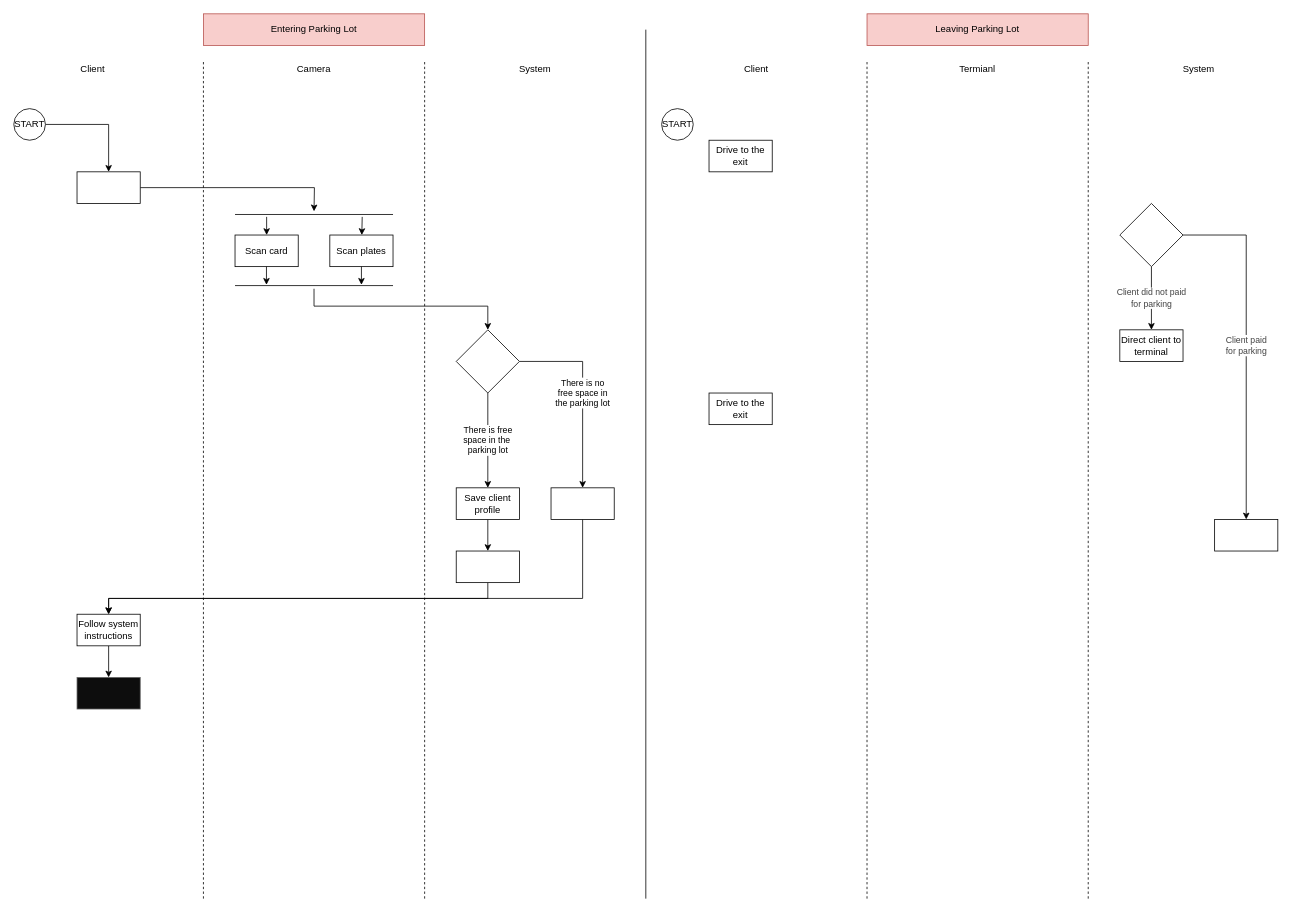
Some shapes in this 1292 by 913 pixel diagram are drawn without their labels. Each missing label, with the centre of its shape:
"Direct client outside" belongs at [582,503].
"Direct client to parking lot" belongs at [487,566].
"Drives into the garage" belongs at [108,187].
"End" belongs at [108,693].
"Open gate" belongs at [1246,535].
